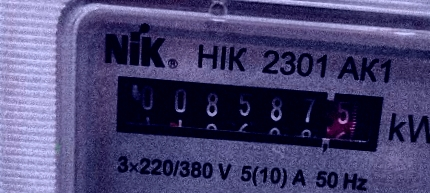0: (137, 81, 156, 112), (171, 85, 190, 114)
5: (334, 98, 354, 128), (235, 89, 254, 119)
7: (298, 94, 318, 125)
8: (266, 92, 286, 123), (203, 89, 221, 118)
screen: (94, 58, 402, 166)
